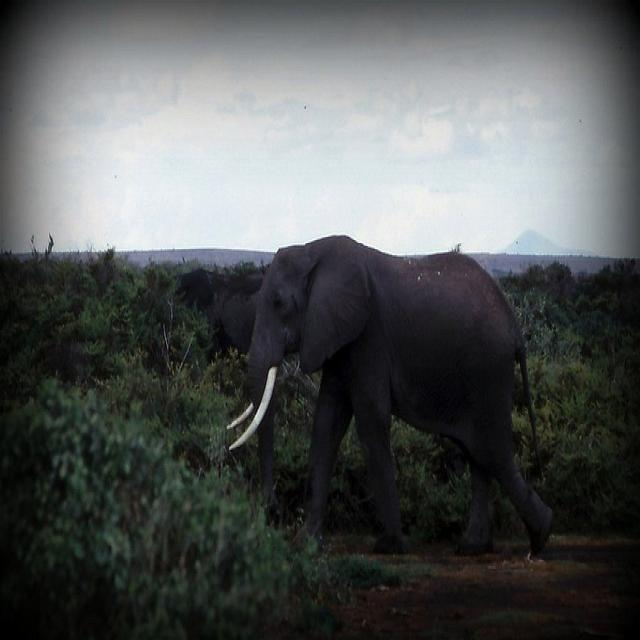Elephant: (225, 232, 553, 557)
